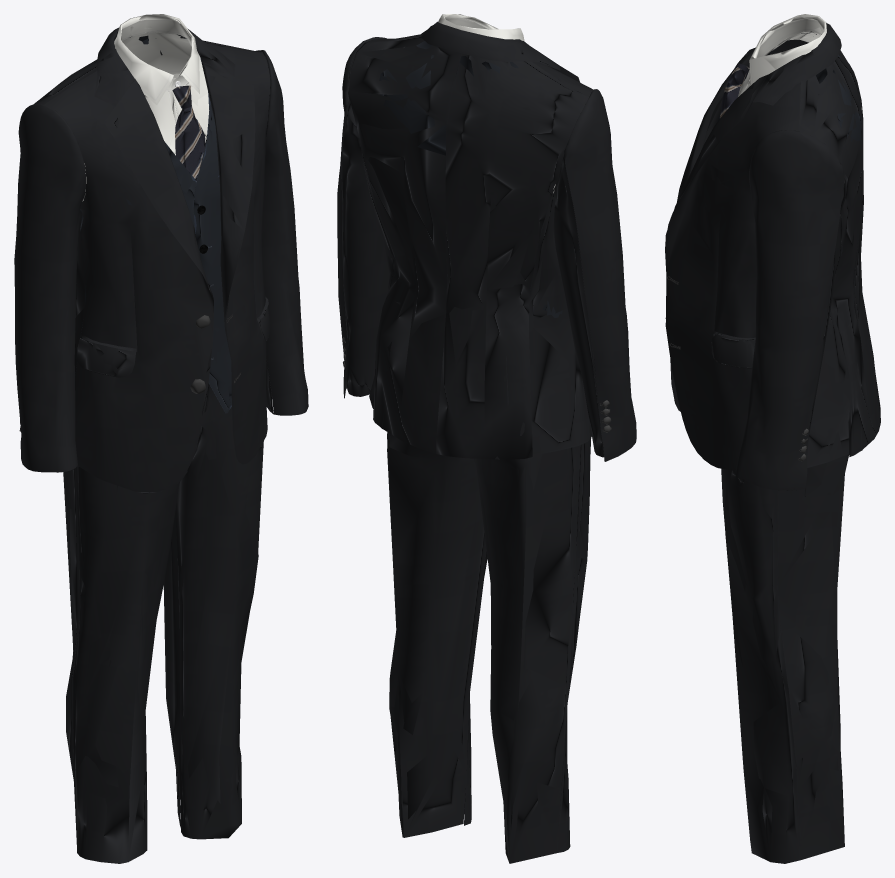
The picture shows the model from 3 angles, left to right: view 1: azimuth 30°, elevation 25°; view 2: azimuth 150°, elevation 25°; view 3: azimuth 270°, elevation 25°; orthographic projection. The views are drawn at different scales.
Visible parts, largest first — view 1: Object_6; view 2: Object_6; view 3: Object_6.
Boxes of the visible parts, left/top/right/bottom form: Object_6: left=14, top=14, right=308, bottom=863; Object_6: left=337, top=14, right=636, bottom=863; Object_6: left=665, top=14, right=880, bottom=863.
Bounding box in the file's own units: 545 × 1516 × 370.
Materials: 9 (1 with a texture image).
